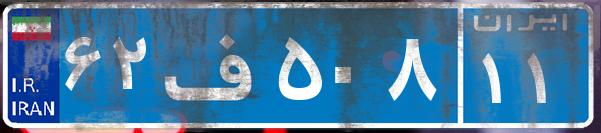0: (330, 28, 385, 110)
1: (475, 38, 525, 113), (525, 38, 570, 115)
2: (110, 28, 158, 105)
5: (273, 28, 330, 110)
6: (57, 26, 110, 107)
8: (385, 28, 445, 110)
ف: (158, 15, 273, 115)
